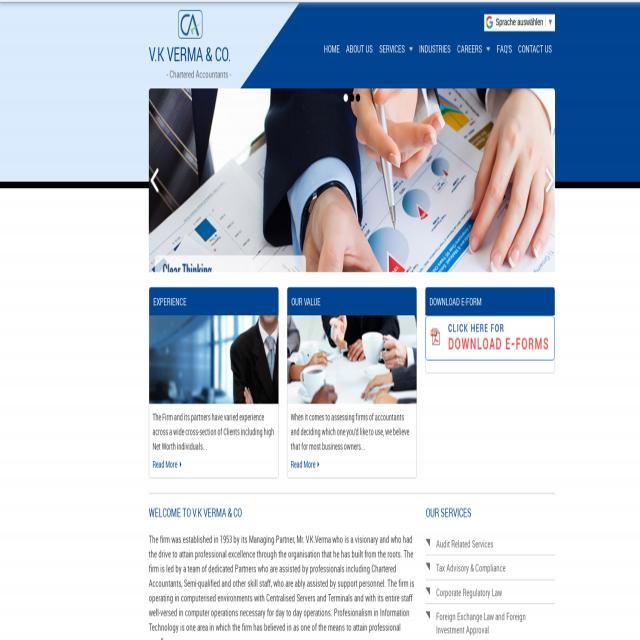button: (288, 313, 417, 401), (150, 313, 278, 401), (426, 313, 554, 358), (454, 37, 492, 60), (516, 39, 557, 60), (416, 39, 453, 60), (378, 40, 416, 60), (342, 39, 377, 60), (178, 7, 202, 36), (320, 38, 344, 61), (493, 39, 515, 60), (543, 162, 555, 194), (149, 162, 161, 194)
field: (484, 15, 554, 32)
